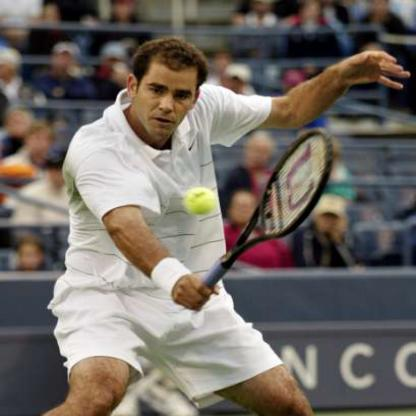face: (139, 46, 202, 139), (247, 136, 274, 170), (319, 199, 345, 234), (231, 192, 257, 225), (28, 123, 54, 156), (19, 241, 43, 271), (49, 162, 72, 191), (9, 111, 32, 138), (286, 74, 306, 104), (56, 46, 78, 73), (1, 52, 21, 79)
